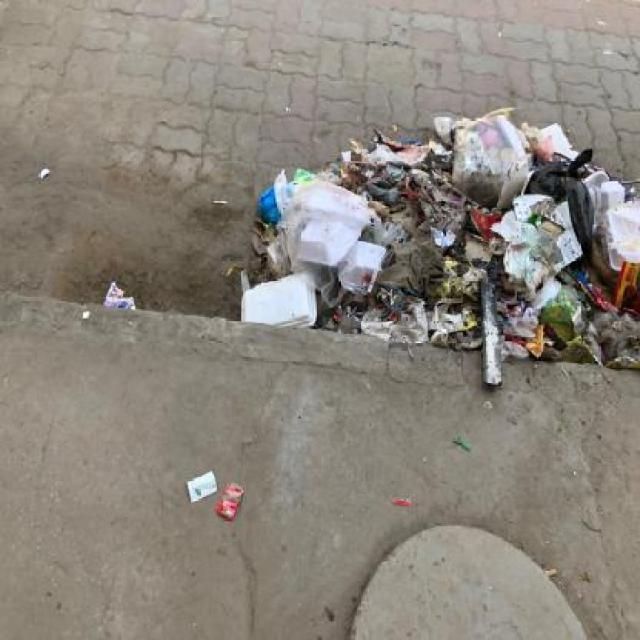garbage: (38, 145, 640, 478), (186, 473, 262, 529)
